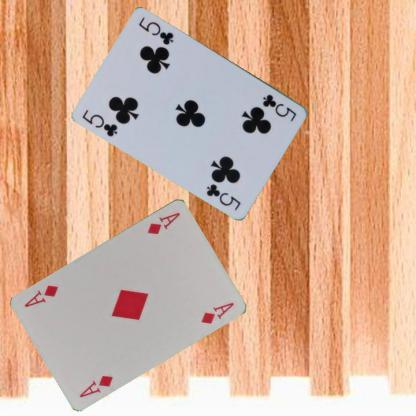5c: (80, 106, 120, 138), (260, 91, 298, 123)
Ad: (77, 372, 114, 399), (145, 209, 181, 236)
